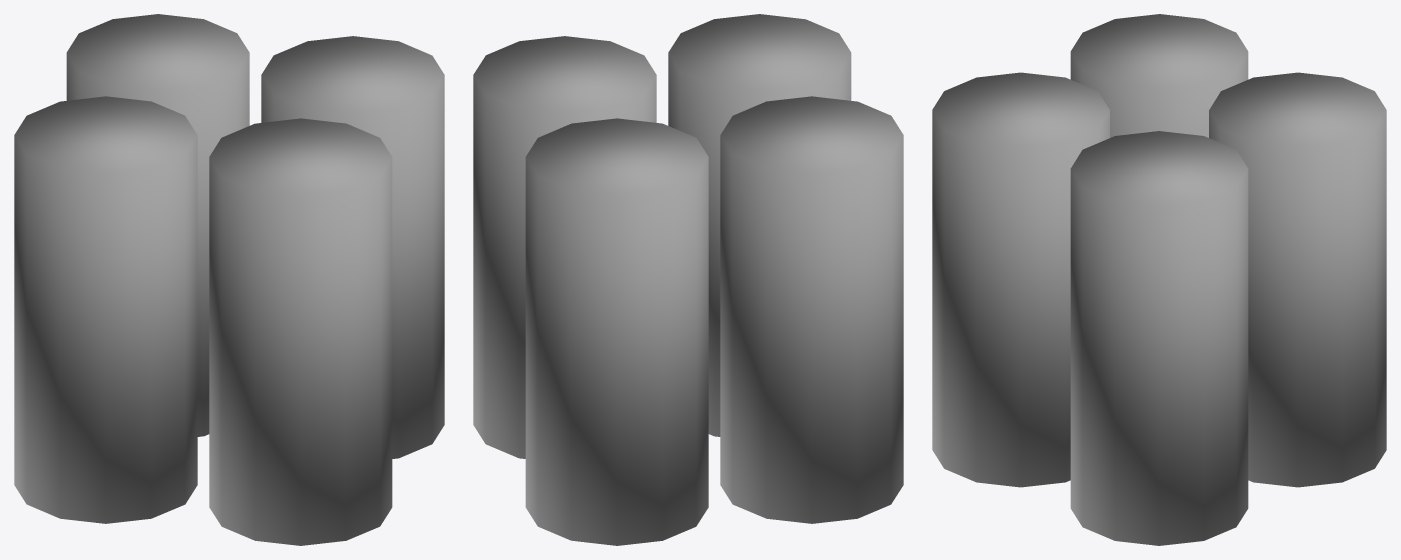
File: SM_boolean_cutters.fbx
The picture shows the model from 3 angles, left to right: view 1: azimuth 30°, elevation 25°; view 2: azimuth 150°, elevation 25°; view 3: azimuth 270°, elevation 25°; orthographic projection. The views are drawn at different scales.
Parts seen in each view (by area): view 1: RocketBottom.001; view 2: RocketBottom.001; view 3: RocketBottom.001.
Part boxes in pixels (x1,y1,x2,y2): RocketBottom.001: [14, 14, 444, 545]; RocketBottom.001: [473, 14, 903, 545]; RocketBottom.001: [932, 14, 1386, 545].
Size of the model in its own units: 2.09 by 1.73 by 2.09.
Materials: 1 (1 with a texture image).
